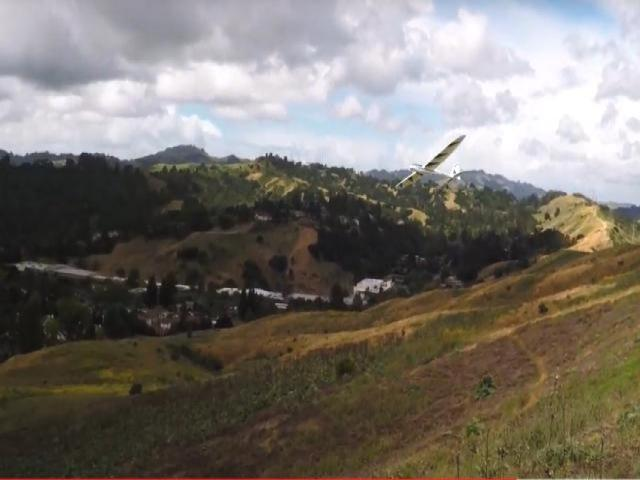iha: (394, 135, 465, 194)
